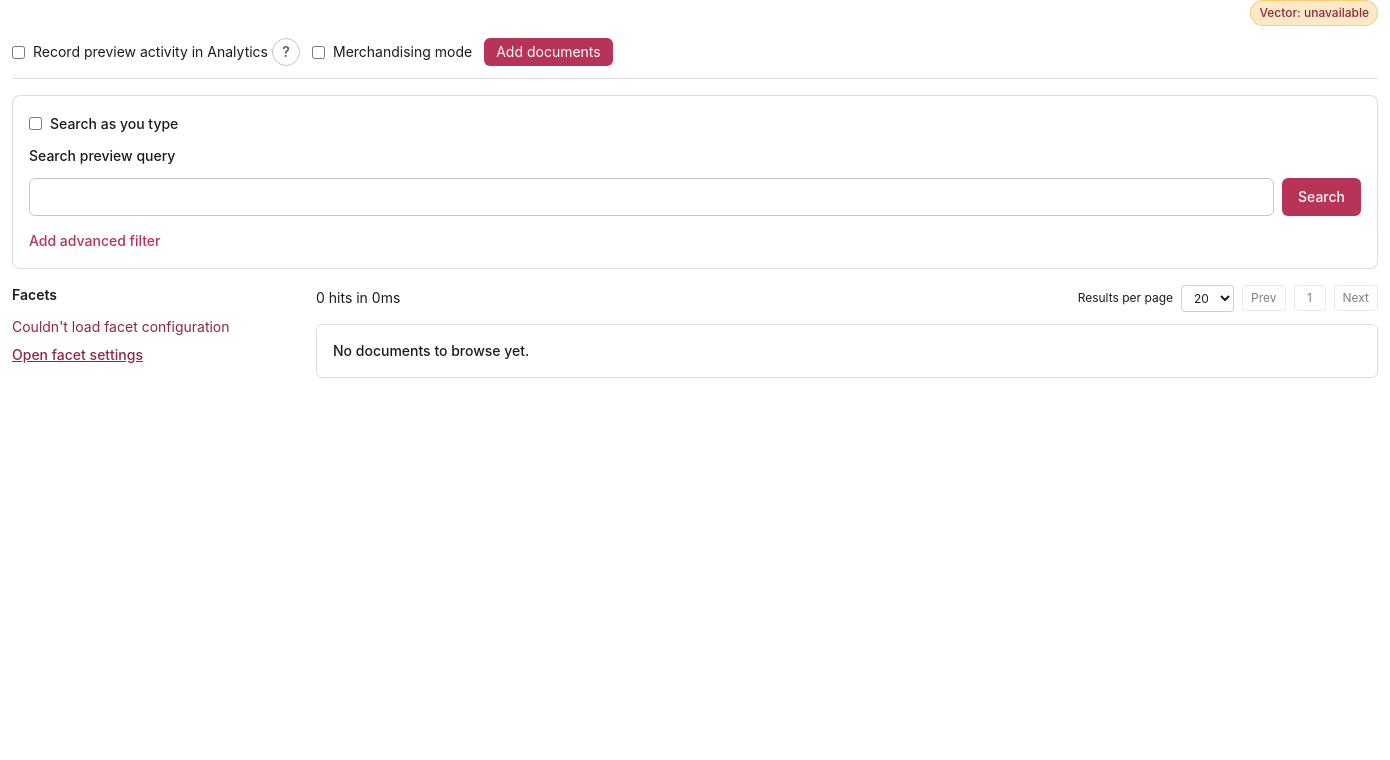
Scenario: InstantSearch › does not increase explicit nbPages from hit count or either page size
This screenshot has width=1390, height=760.
Type "Rust" into the search field labelled "Search preview query".
click(652, 196); type("Rust")  # box [29,178,1274,216]
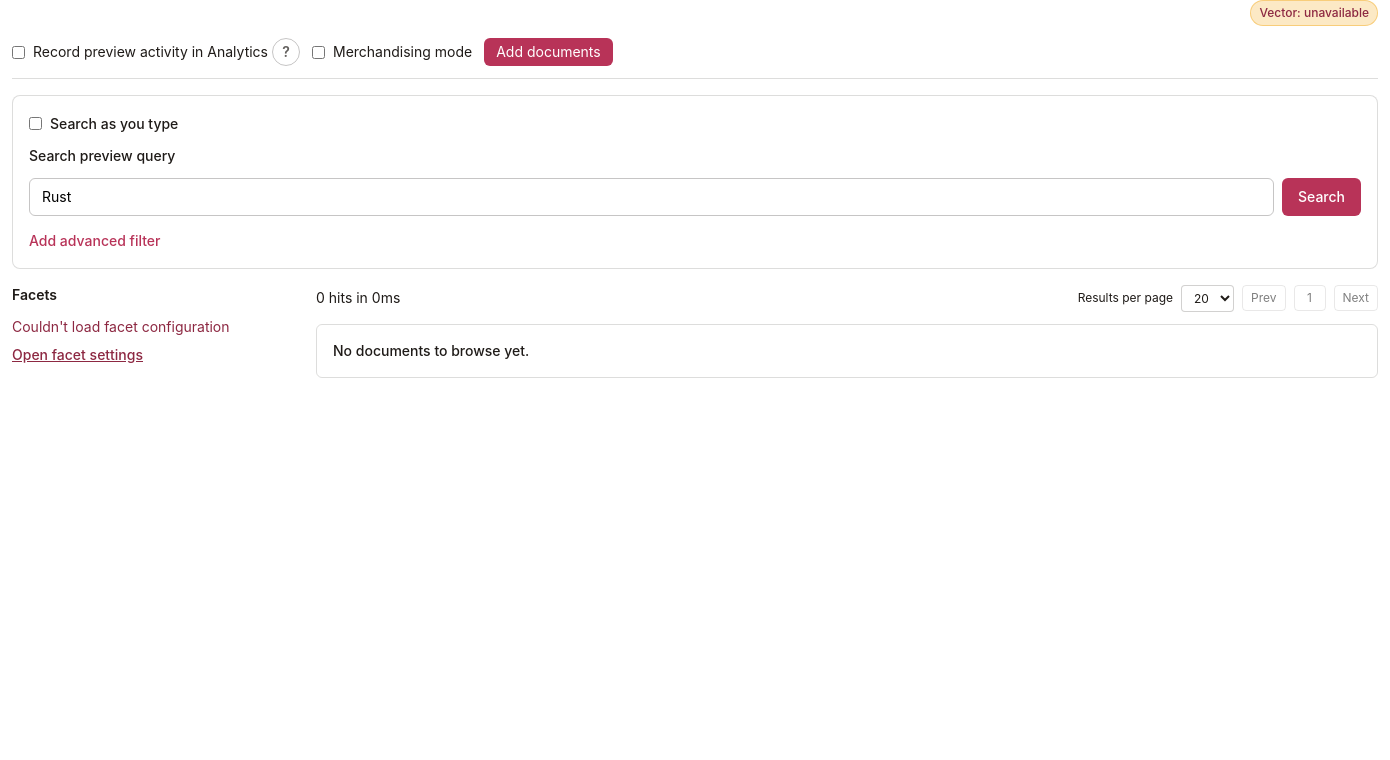
Press Enter in the search field labelled "Search preview query", box [29,178,1274,216]
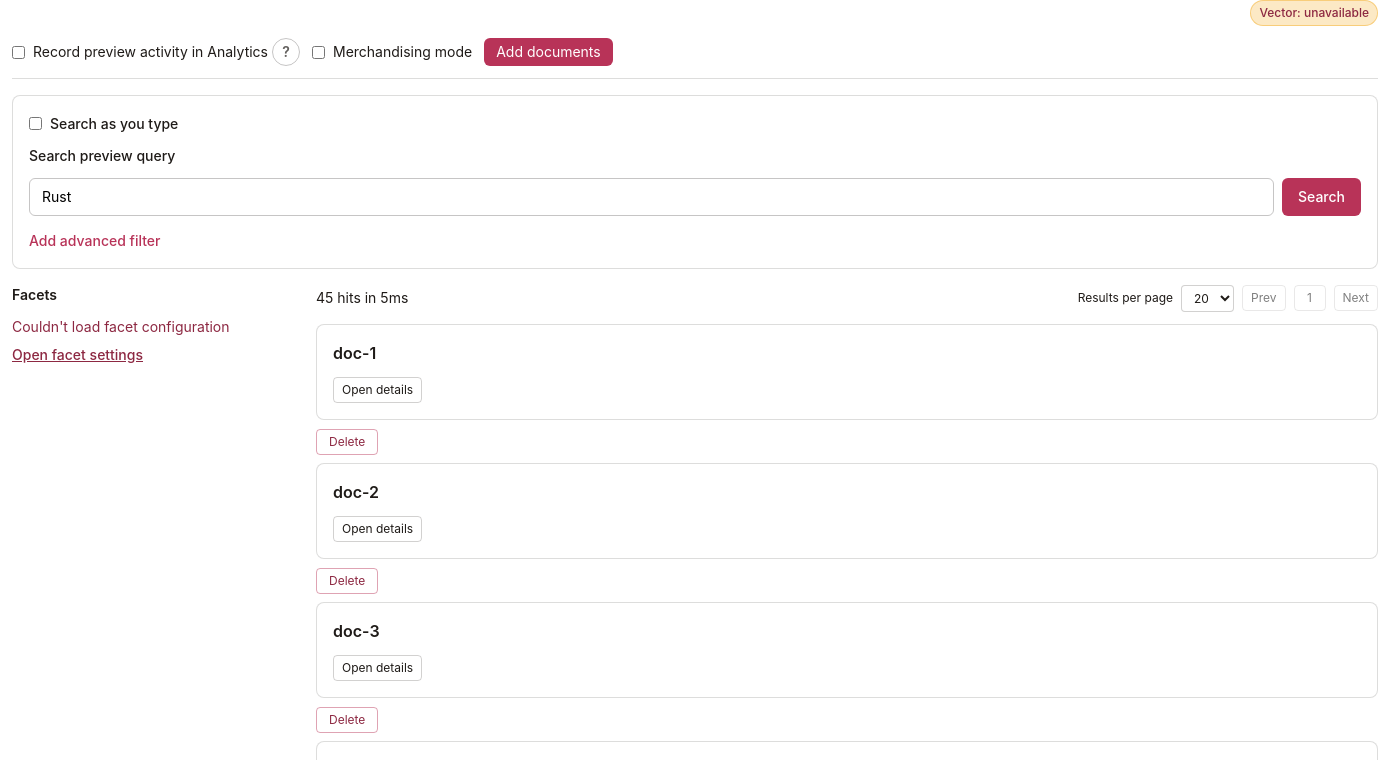
Check: the button with aria-label "Next page" is disabled, box [1334,285,1378,311]
Check: the text "45 hits in 5ms" is shown, box [316,288,408,308]
